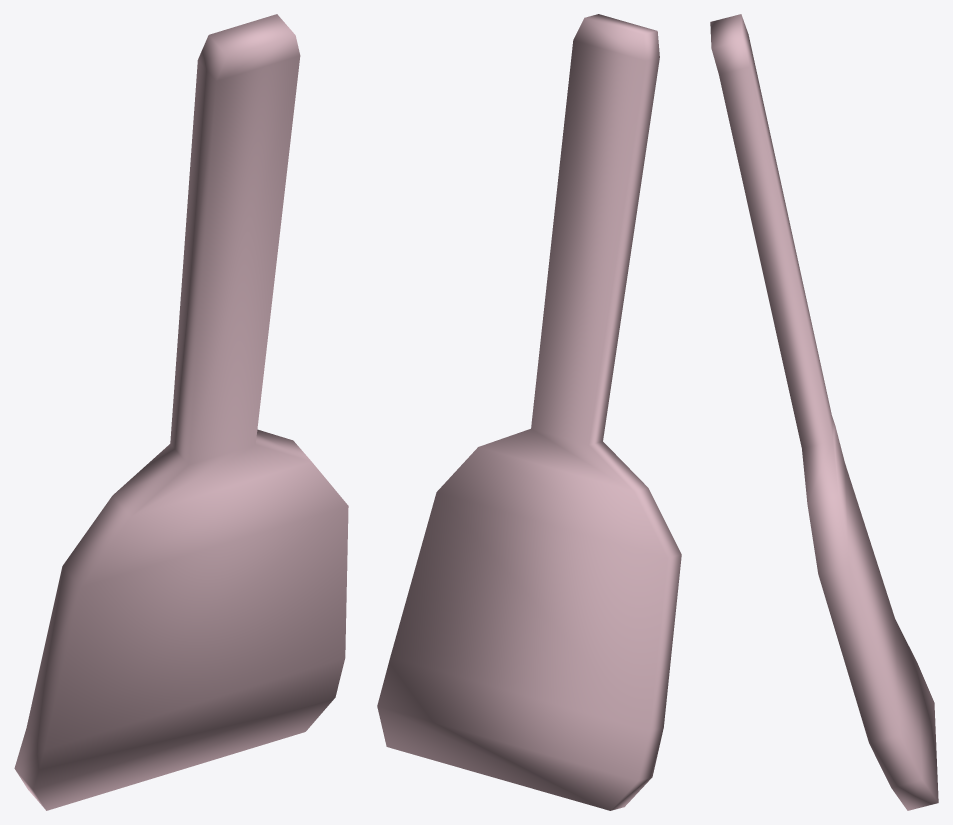
The model's file is Cat_Shit_Swooper.fbx.
3 renders of one model, left to right at view 1: azimuth 30°, elevation 25°; view 2: azimuth 150°, elevation 25°; view 3: azimuth 270°, elevation 25°, orthographic. The views are drawn at different scales.
Parts seen in each view (by area): view 1: Cat_Shit_Swooper; view 2: Cat_Shit_Swooper; view 3: Cat_Shit_Swooper.
Part boxes in pixels (x1,y1,x2,y2): Cat_Shit_Swooper: [14, 14, 348, 810]; Cat_Shit_Swooper: [377, 14, 681, 810]; Cat_Shit_Swooper: [710, 14, 938, 810].
Bounding box in the file's own units: 8.83 × 22.83 × 6.48.
